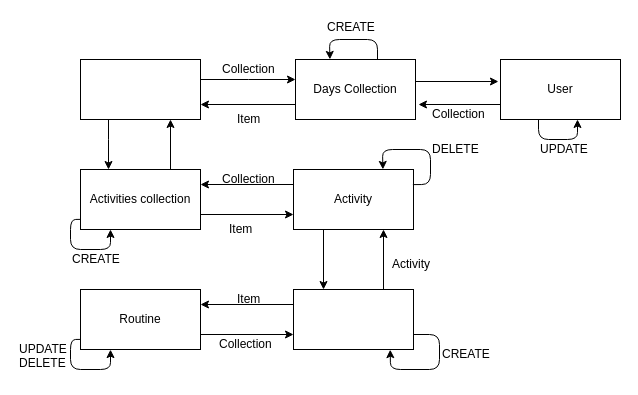
Image size: 638x395. Some labels were removed from this diagram. The box of each missing label's shape, as (x1, y1, x2, y2) in pixels:
Date: (80, 58, 200, 120)
Routine collection: (292, 288, 414, 350)
